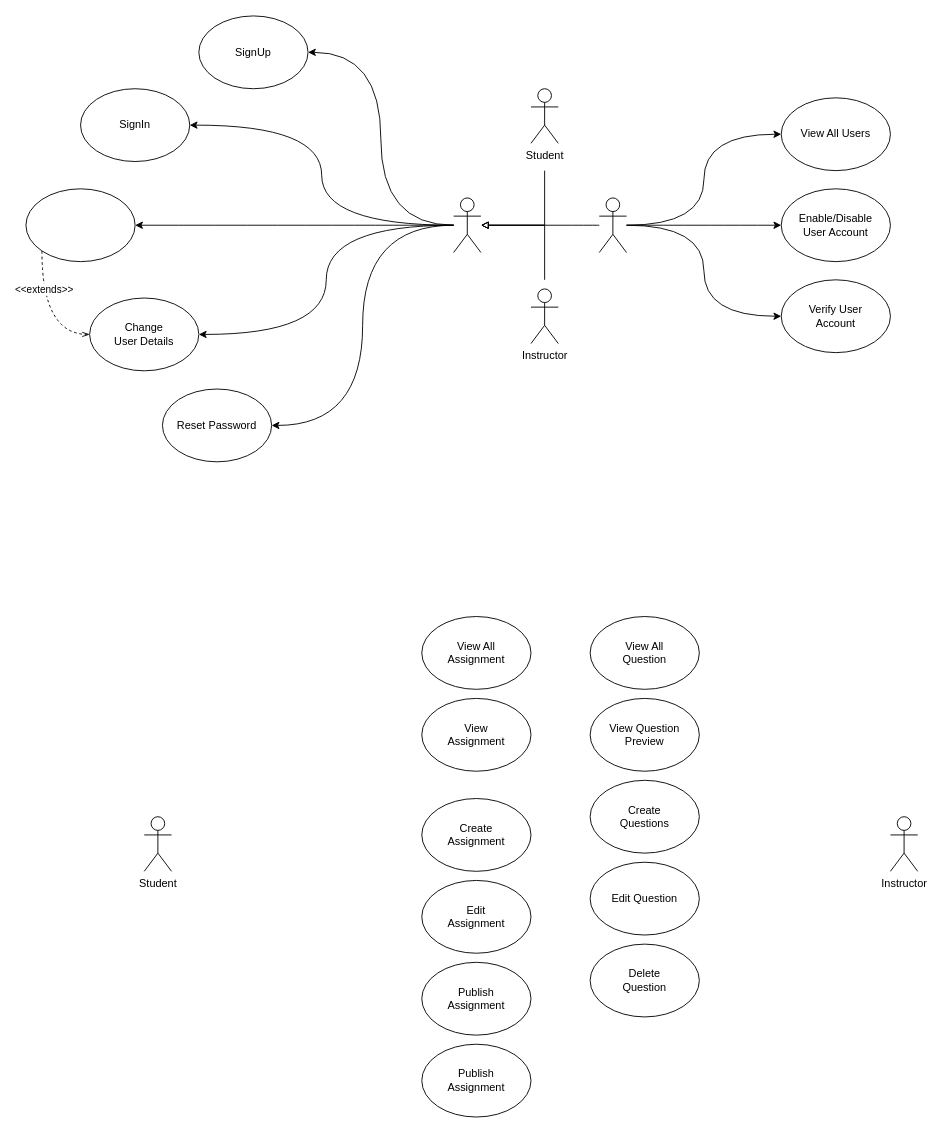
Image size: 943x1133. Some labels were removed from this diagram. The shapes that lost their labels are listed below. From the top down, each one's centre as x and y in pixels, then its label:
point (80, 225): View User Profile
point (467, 225): User
point (612, 225): Admin
